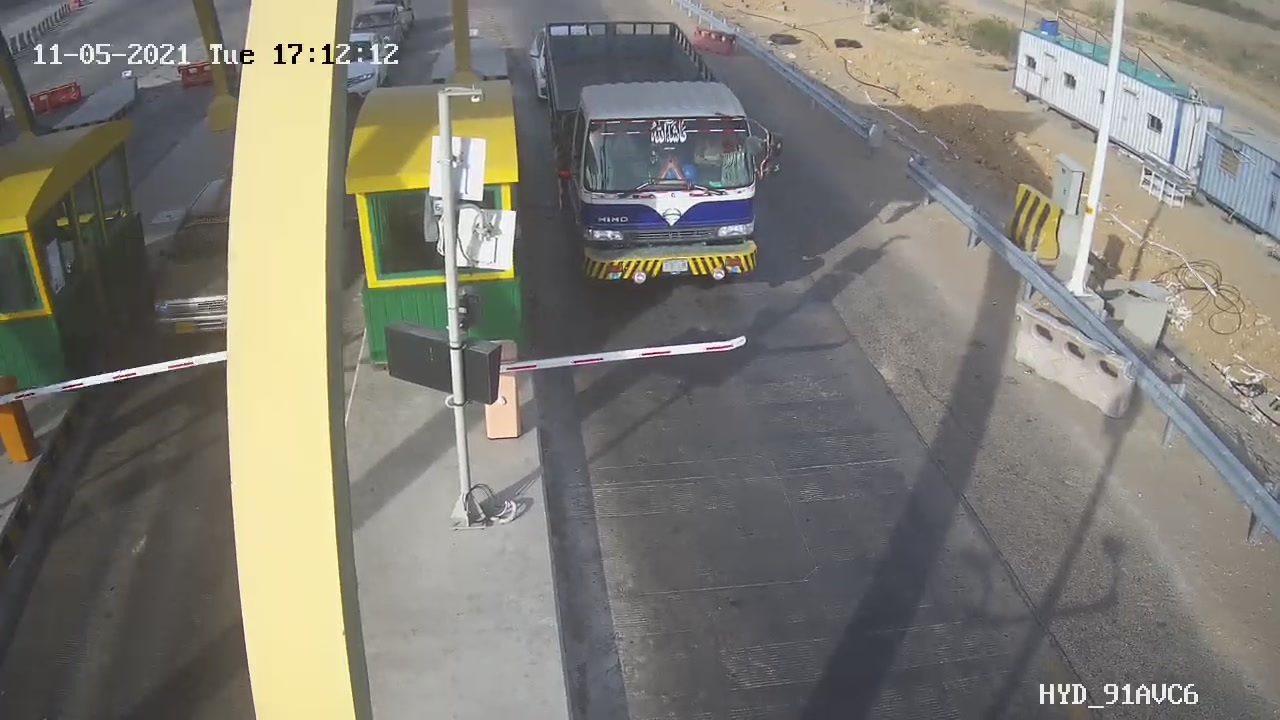F5: (524, 9, 804, 307)
